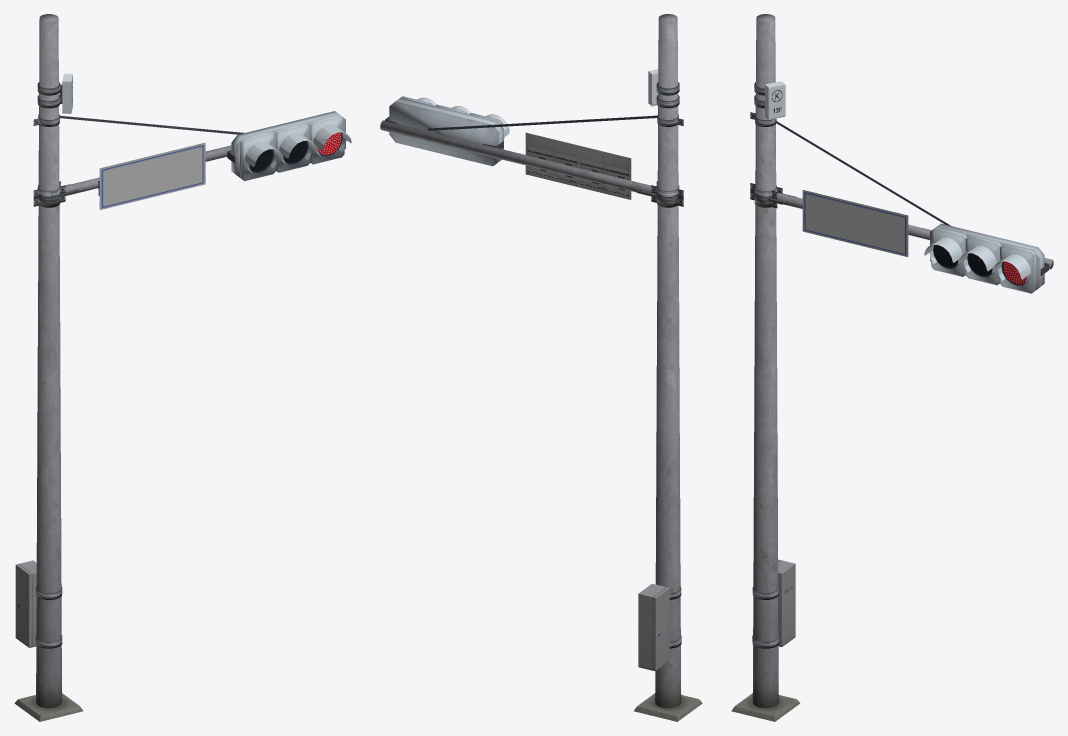
Rendered from Traffic_light_Auto_1_town.fbx.
3 views of the same model, side by side, from view 1: azimuth 30°, elevation 25°; view 2: azimuth 150°, elevation 25°; view 3: azimuth 330°, elevation 25° (orthographic).
Visible parts, largest first — view 1: 00_pillar, 30_Auto_light, 50_town_name, 80_box_L, 86_box_SS, 20_Auto_latch_bar, 10_Auto_bar; view 2: 00_pillar, 30_Auto_light, 50_town_name, 10_Auto_bar, 80_box_L, 86_box_SS, 20_Auto_latch_bar; view 3: 00_pillar, 30_Auto_light, 50_town_name, 80_box_L, 86_box_SS, 20_Auto_latch_bar, 10_Auto_bar.
Part boxes in pixels (x1=…): 00_pillar: x1=14, y1=14, x2=83, y2=721; 30_Auto_light: x1=60, y1=111, x2=351, y2=181; 50_town_name: x1=98, y1=143, x2=205, y2=209; 80_box_L: x1=15, y1=560, x2=62, y2=648; 86_box_SS: x1=37, y1=73, x2=72, y2=113; 20_Auto_latch_bar: x1=33, y1=181, x2=79, y2=207; 10_Auto_bar: x1=65, y1=145, x2=231, y2=192; 00_pillar: x1=634, y1=14, x2=702, y2=721; 30_Auto_light: x1=385, y1=96, x2=657, y2=166; 50_town_name: x1=525, y1=132, x2=631, y2=199; 10_Auto_bar: x1=380, y1=120, x2=651, y2=192; 80_box_L: x1=638, y1=583, x2=681, y2=671; 86_box_SS: x1=648, y1=69, x2=679, y2=108; 20_Auto_latch_bar: x1=637, y1=181, x2=683, y2=207; 00_pillar: x1=731, y1=14, x2=800, y2=721; 30_Auto_light: x1=775, y1=120, x2=1048, y2=293; 50_town_name: x1=802, y1=190, x2=908, y2=257; 80_box_L: x1=752, y1=559, x2=795, y2=648; 86_box_SS: x1=754, y1=81, x2=785, y2=119; 20_Auto_latch_bar: x1=750, y1=183, x2=796, y2=208; 10_Auto_bar: x1=777, y1=192, x2=1053, y2=269.
Size of the model in its own units: 3.51 by 7.5 by 0.919.
